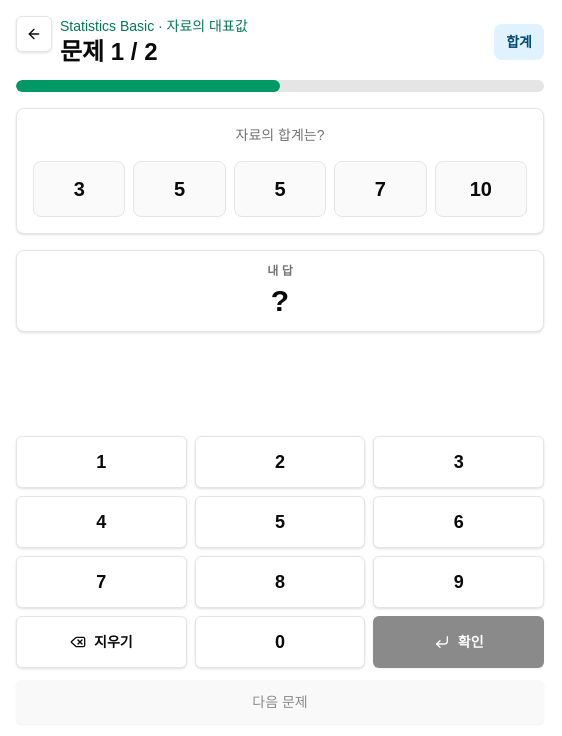
Scenario: StatisticsLearning › keeps the same question active after the first wrong answer
Click the button "9". click: (459, 582)
box: [373,556,544,608]
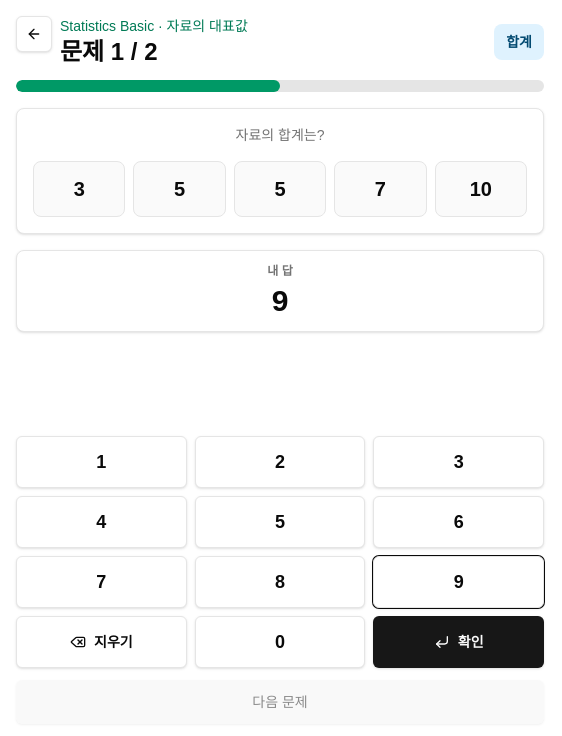
Click the button with aria-label "정답 확인". click: (459, 642)
box: [373,616,544,668]
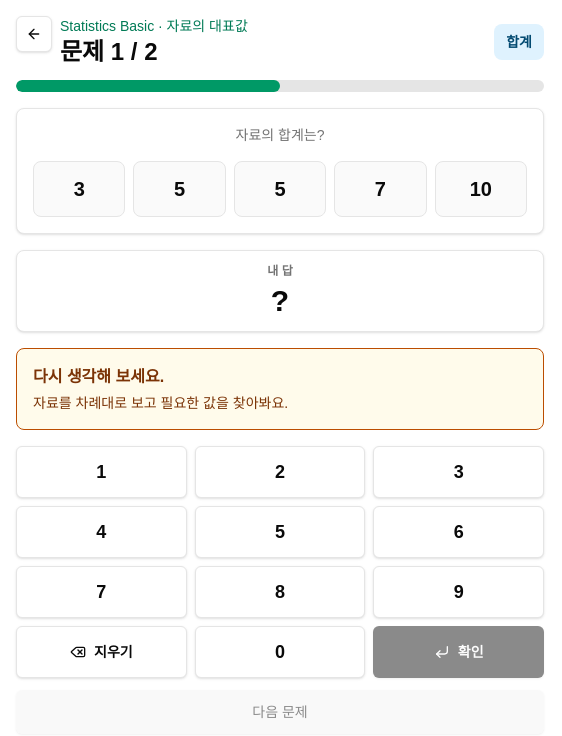
expect the list named "자료 3, 5, 5, 7, 10" is shown: met, box [33,161,527,217]
expect the text "다시 생각해 보세요." is shown: met, box [33,368,164,385]
